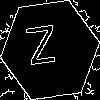Z: (25, 25, 59, 74)
